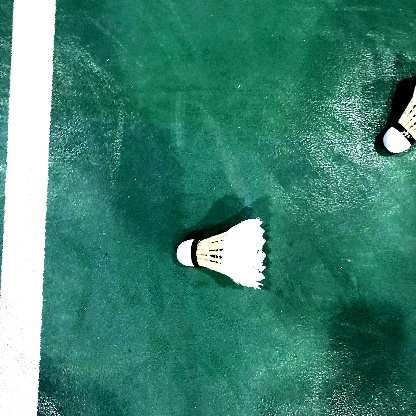ball_single: (176, 219, 266, 289), (383, 84, 416, 153)
